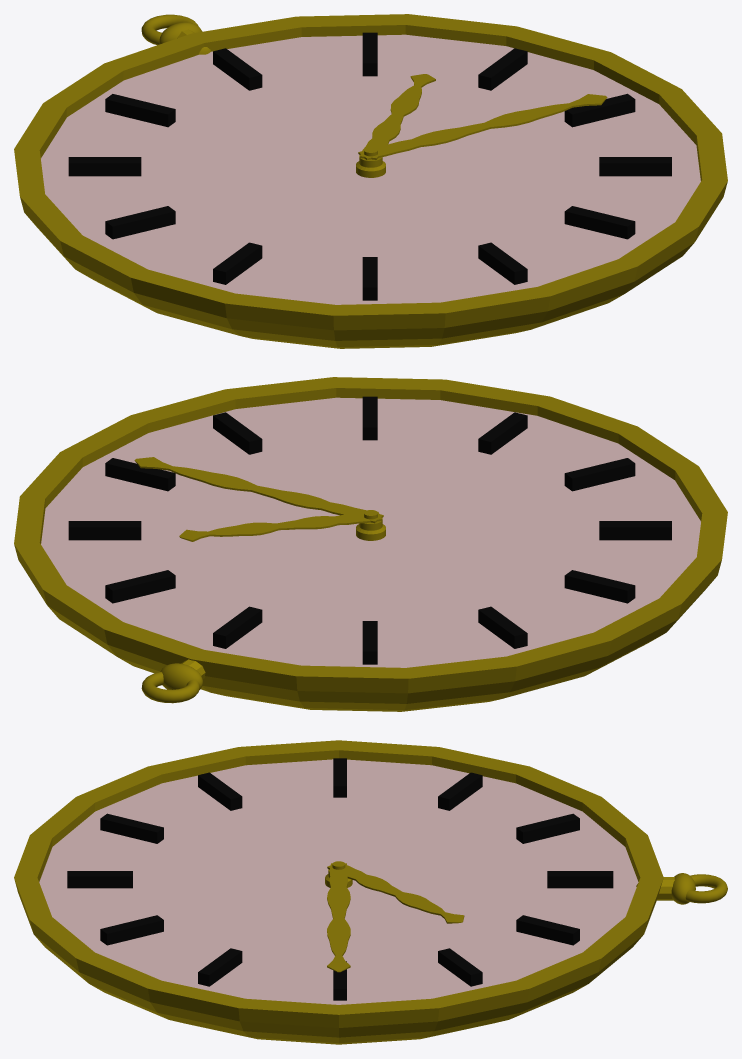
The model's file is Relog.fbx.
3 views of the same model, one above another, from view 1: azimuth 30°, elevation 25°; view 2: azimuth 150°, elevation 25°; view 3: azimuth 270°, elevation 25° (orthographic). The views are drawn at different scales.
Parts seen in each view (by area): view 1: pCylinder1, pSphere1, pCube1, pCube2, pCube6, pCube12, pCube11, pCube7, pCube5, pCube13, pCube4, pCube8 (+6 smaller); view 2: pCylinder1, pSphere1, pCube1, pCube2, pCube14, pCube8, pCube9, pCube7, pCube15, pCube13, pCube10, pCube4 (+7 smaller); view 3: pCylinder1, pSphere1, pCube1, pCube2, pCube4, pCube10, pCube5, pCube9, pCube11, pCube15, pCube6, pCube14 (+5 smaller).
Part boxes in pixels (left/top/right/bottom): pCylinder1: left=41, top=34, right=700, bottom=304; pSphere1: left=14, top=14, right=727, bottom=348; pCube1: left=358, top=94, right=607, bottom=160; pCube2: left=360, top=74, right=435, bottom=159; pCube6: left=68, top=157, right=141, bottom=176; pCube12: left=599, top=157, right=671, bottom=176; pCube11: left=564, top=206, right=635, bottom=239; pCube7: left=105, top=206, right=175, bottom=239; pCube5: left=105, top=94, right=175, bottom=127; pCube13: left=564, top=93, right=635, bottom=127; pCube4: left=213, top=48, right=262, bottom=90; pCube8: left=213, top=242, right=262, bottom=284; pCylinder1: left=41, top=397, right=700, bottom=667; pSphere1: left=14, top=377, right=727, bottom=711; pCube1: left=134, top=457, right=383, bottom=523; pCube2: left=179, top=512, right=382, bottom=541; pCube14: left=68, top=521, right=141, bottom=540; pCube8: left=599, top=521, right=671, bottom=540; pCube9: left=564, top=458, right=635, bottom=491; pCube7: left=564, top=570, right=635, bottom=603; pCube15: left=105, top=570, right=175, bottom=603; pCube13: left=105, top=458, right=175, bottom=491; pCube10: left=478, top=412, right=527, bottom=454; pCube4: left=213, top=606, right=262, bottom=648; pCylinder1: left=39, top=759, right=638, bottom=1004; pSphere1: left=14, top=740, right=663, bottom=1044; pCube1: left=327, top=863, right=350, bottom=972; pCube2: left=327, top=864, right=464, bottom=923; pCube4: left=547, top=871, right=613, bottom=888; pCube10: left=67, top=871, right=132, bottom=888; pCube5: left=516, top=813, right=579, bottom=843; pCube9: left=100, top=813, right=163, bottom=843; pCube11: left=100, top=915, right=163, bottom=945; pCube15: left=516, top=915, right=579, bottom=945; pCube6: left=438, top=772, right=482, bottom=810; pCube14: left=438, top=948, right=482, bottom=986.
Size of the model in its own units: 11.88 by 2.2 by 13.05.
